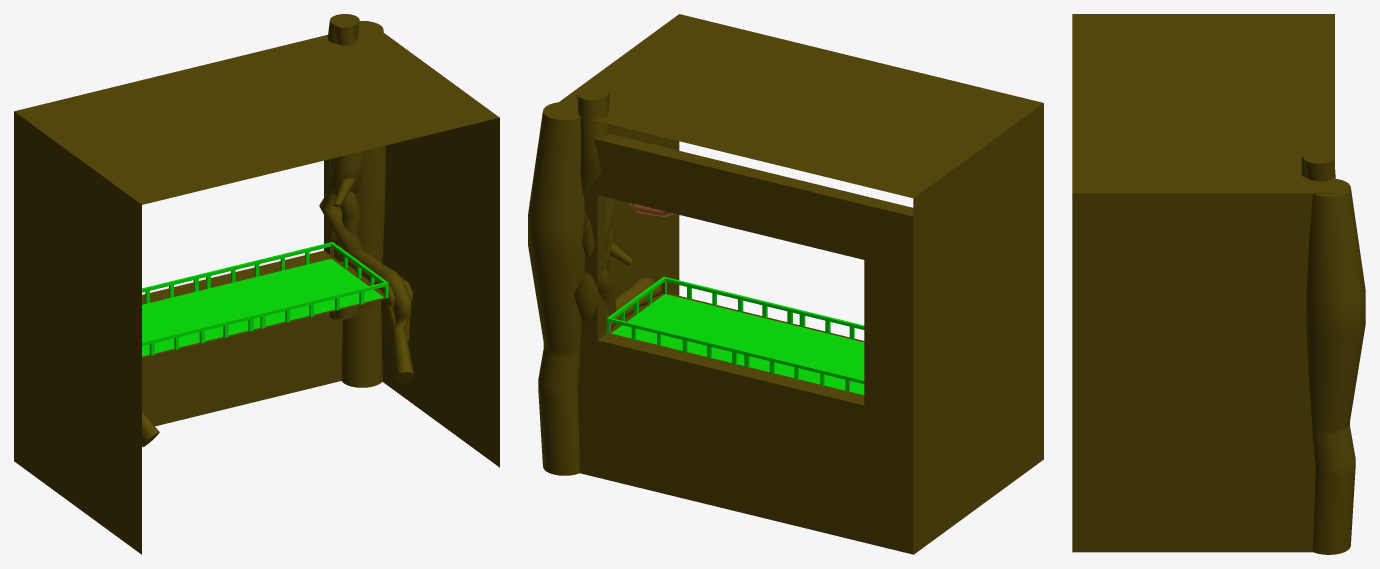
File: ShopBarterv1.fbx
3 renders of one model, left to right at view 1: azimuth 30°, elevation 25°; view 2: azimuth 150°, elevation 25°; view 3: azimuth 270°, elevation 25°, orthographic. The views are drawn at different scales.
Visible parts, largest first — view 1: walls1, shop_working, pCylinder12, pCylinder18, pCylinder7, pCylinder8, pCylinder9; view 2: walls1, shop_working, pCylinder12, pCylinder7, pCylinder9; view 3: walls1, pCylinder12, pCylinder7.
Part boxes in pixels (box(x1,y1,x2,y2)): walls1: box(14, 24, 499, 554); shop_working: box(142, 159, 388, 426); pCylinder12: box(341, 20, 385, 387); pCylinder18: box(142, 250, 414, 446); pCylinder7: box(325, 14, 364, 316); pCylinder8: box(329, 20, 361, 318); pCylinder9: box(319, 17, 363, 320); walls1: box(549, 14, 1043, 554); shop_working: box(578, 133, 913, 554); pCylinder12: box(528, 102, 585, 475); pCylinder7: box(574, 87, 614, 321); pCylinder9: box(582, 91, 616, 329); walls1: box(1072, 14, 1334, 552); pCylinder12: box(1306, 178, 1365, 554); pCylinder7: box(1303, 151, 1335, 181).
Size of the model in its own units: 299 by 281 by 198.
